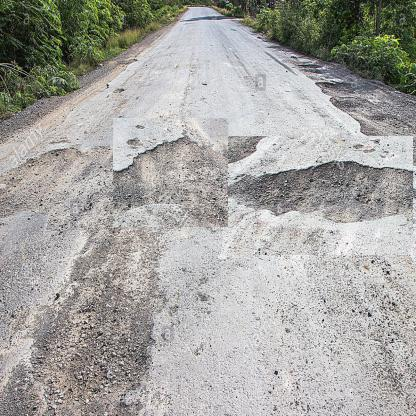damage: (222, 136, 414, 256), (113, 118, 229, 228)
